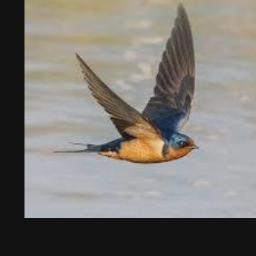Swallow: (53, 3, 200, 163)
